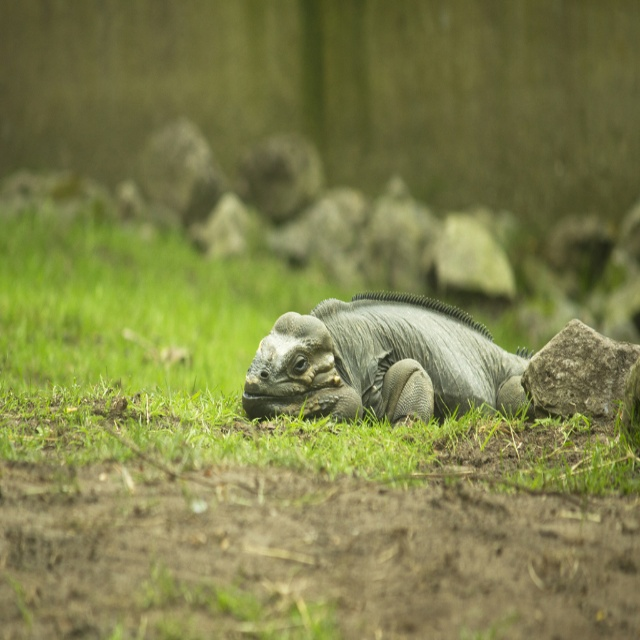Lizard: (262, 273, 577, 454)
